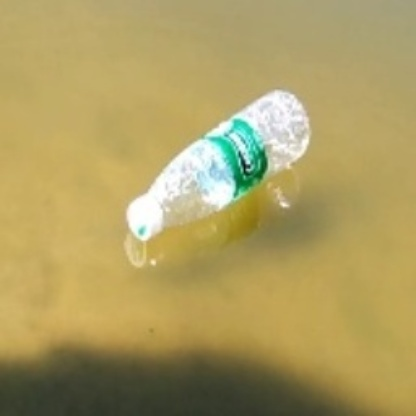bottle: (125, 85, 314, 254)
